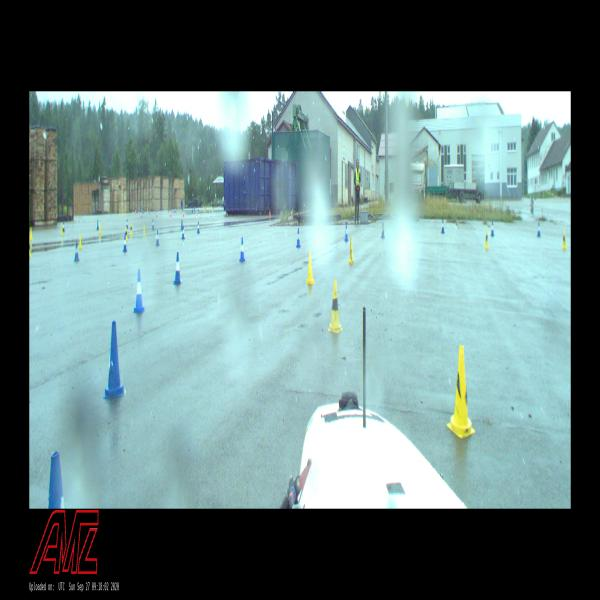blue_cone: (37, 451, 81, 508), (104, 322, 124, 398), (133, 270, 145, 312), (173, 252, 182, 284), (239, 238, 245, 262), (74, 241, 80, 261), (296, 228, 301, 247), (344, 222, 348, 240), (123, 234, 127, 251), (156, 230, 160, 246), (381, 222, 385, 238), (537, 222, 541, 236), (181, 226, 185, 238), (491, 221, 494, 236), (441, 218, 444, 233), (197, 221, 200, 234), (180, 219, 183, 230), (126, 218, 128, 228), (97, 220, 99, 230), (63, 221, 64, 232), (152, 219, 153, 229)
yellow_cone: (447, 346, 475, 438), (328, 280, 343, 332), (306, 251, 315, 284), (348, 238, 354, 264), (484, 230, 490, 248), (561, 232, 567, 248), (79, 234, 82, 249), (125, 228, 128, 241), (143, 224, 146, 235), (29, 242, 31, 256), (30, 227, 32, 241), (61, 226, 64, 235), (99, 222, 101, 234), (130, 224, 132, 234)
